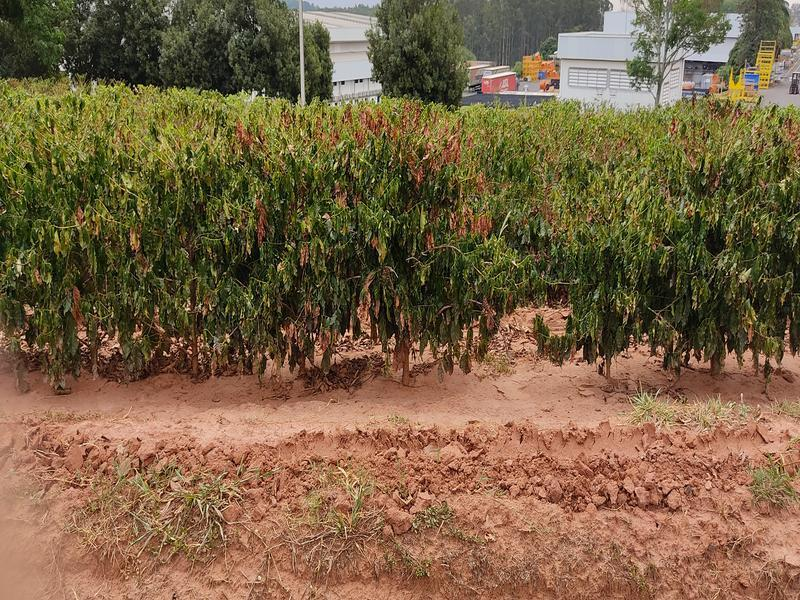coffee: (1, 131, 143, 406), (349, 130, 490, 396), (673, 108, 794, 391), (130, 128, 255, 400), (236, 134, 354, 394), (550, 159, 664, 402)
